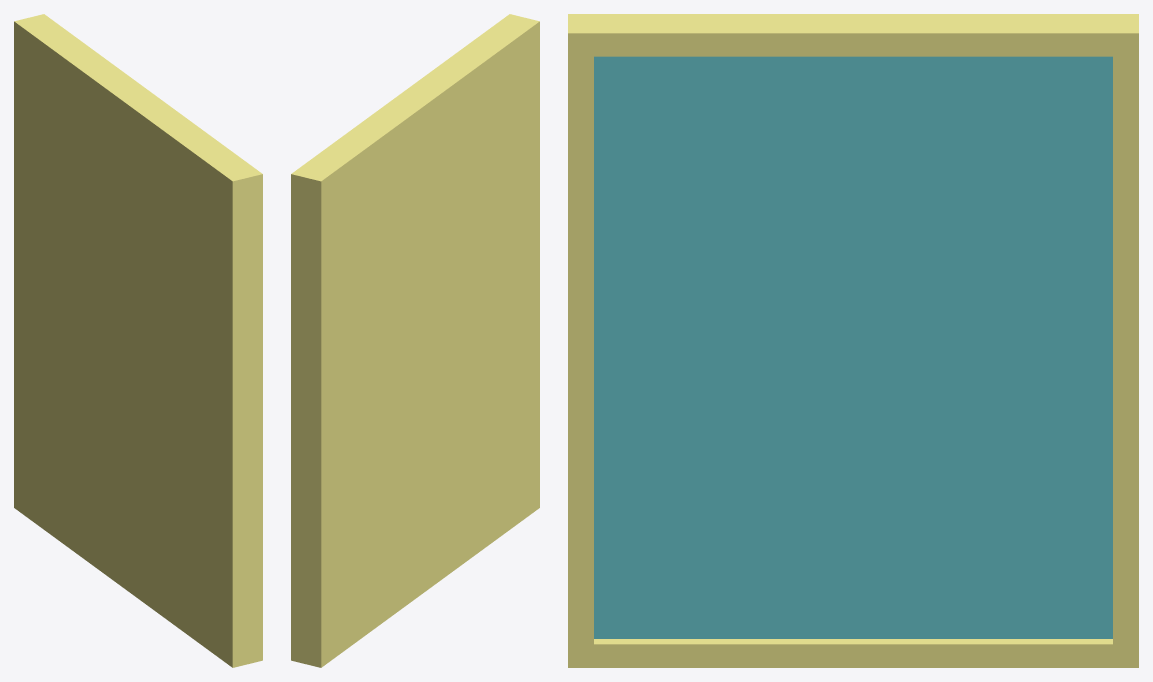
Rendered from Espejo.fbx.
The picture shows the model from 3 angles, left to right: view 1: azimuth 30°, elevation 25°; view 2: azimuth 150°, elevation 25°; view 3: azimuth 270°, elevation 25°; orthographic projection. The views are drawn at different scales.
Parts seen in each view (by area): view 1: Espejo; view 2: Espejo; view 3: Espejo.
Boxes of the visible parts, x1,y1,x2,y2 form: Espejo: [14, 14, 262, 667]; Espejo: [291, 14, 539, 667]; Espejo: [568, 14, 1138, 667].
Bounding box in the file's own units: 7 × 108 × 88.
